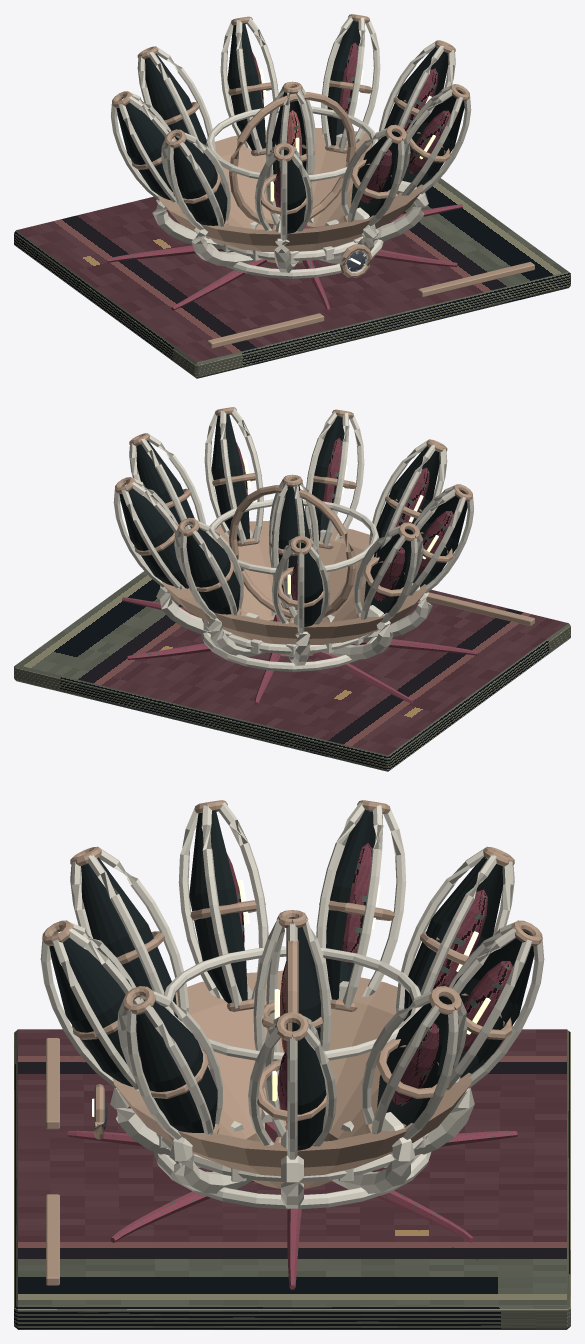
File: nursery_seed_orrery.glb
3 renders of one model, top to bottom at view 1: azimuth 30°, elevation 25°; view 2: azimuth 150°, elevation 25°; view 3: azimuth 270°, elevation 25°, orthographic. The views are drawn at different scales.
Visible parts, largest first — view 1: nursery_seed_orrery_petrol, nursery_seed_orrery_warm, nursery_seed_orrery_worn, nursery_seed_orrery_bruised; view 2: nursery_seed_orrery_petrol, nursery_seed_orrery_warm, nursery_seed_orrery_worn, nursery_seed_orrery_bruised; view 3: nursery_seed_orrery_petrol, nursery_seed_orrery_warm, nursery_seed_orrery_worn, nursery_seed_orrery_bruised, nursery_seed_orrery_sick.
Boxes of the visible parts, <box> form: nursery_seed_orrery_petrol: <box>14,20,570,378</box>; nursery_seed_orrery_warm: <box>111,15,471,278</box>; nursery_seed_orrery_worn: <box>112,14,534,348</box>; nursery_seed_orrery_bruised: <box>106,42,462,312</box>; nursery_seed_orrery_petrol: <box>14,414,570,771</box>; nursery_seed_orrery_warm: <box>113,408,473,671</box>; nursery_seed_orrery_worn: <box>115,407,534,656</box>; nursery_seed_orrery_bruised: <box>122,438,478,704</box>; nursery_seed_orrery_petrol: <box>14,809,570,1329</box>; nursery_seed_orrery_warm: <box>40,802,544,1209</box>; nursery_seed_orrery_worn: <box>42,800,542,1285</box>; nursery_seed_orrery_bruised: <box>67,843,517,1289</box>; nursery_seed_orrery_sick: <box>92,879,490,1116</box>.
Bounding box in the file's own units: 5.75 × 2.77 × 4.85.
Materials: 7 (3 with a texture image).
